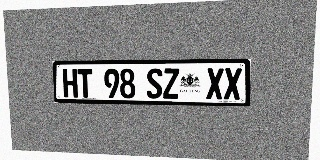8: (119, 68, 135, 98)
9: (104, 69, 120, 98)
H: (62, 69, 78, 98)
S: (146, 68, 162, 99)
T: (77, 69, 93, 98)
X: (224, 68, 242, 100), (206, 68, 224, 99)
Z: (163, 68, 179, 99)
